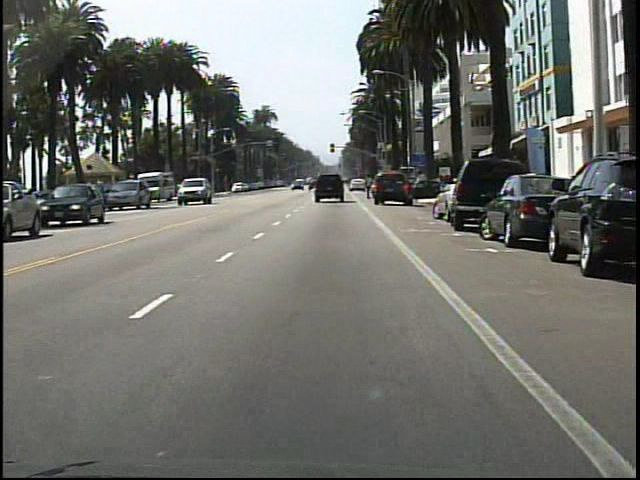person: (362, 173, 377, 204)
